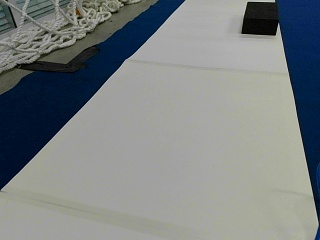block: (241, 2, 278, 35)
